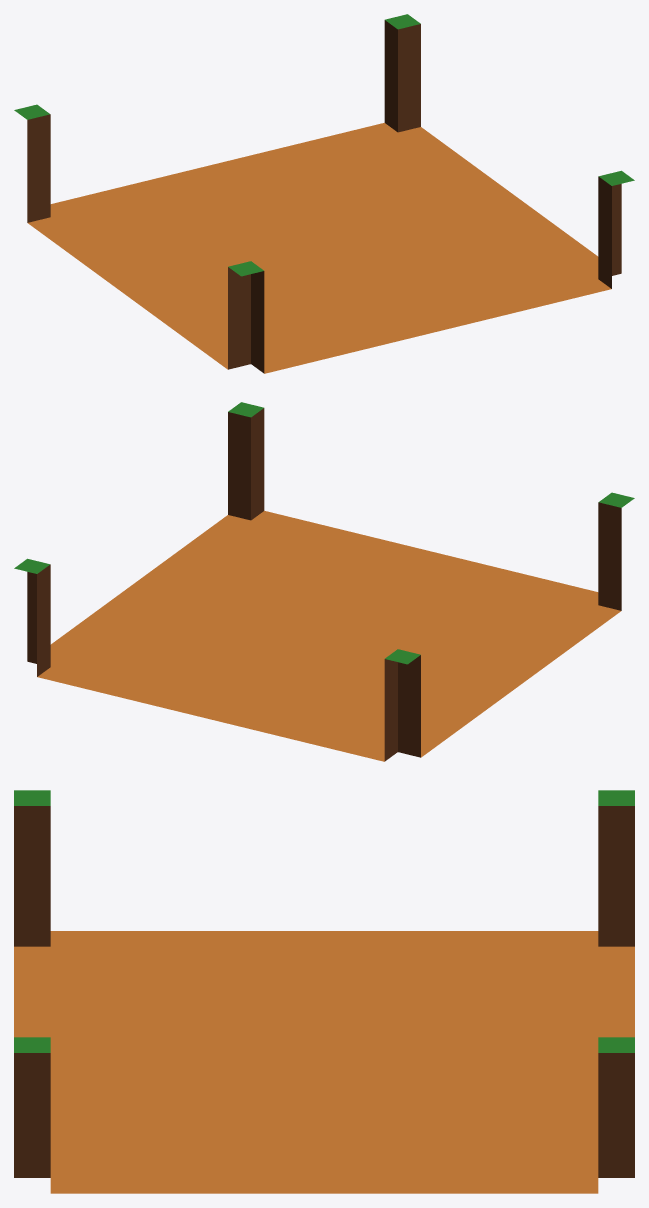
The model's file is Path_4_Way.fbx.
The picture shows the model from 3 angles, top to bottom: view 1: azimuth 30°, elevation 25°; view 2: azimuth 150°, elevation 25°; view 3: azimuth 270°, elevation 25°; orthographic projection. The views are drawn at different scales.
Parts seen in each view (by area): view 1: Path_4_Way; view 2: Path_4_Way; view 3: Path_4_Way.
Part boxes in pixels (x1,y1,x2,y2): Path_4_Way: [14, 14, 634, 373]; Path_4_Way: [14, 402, 634, 761]; Path_4_Way: [14, 790, 634, 1193].
Bounding box in the file's own units: 200 × 50 × 200.
